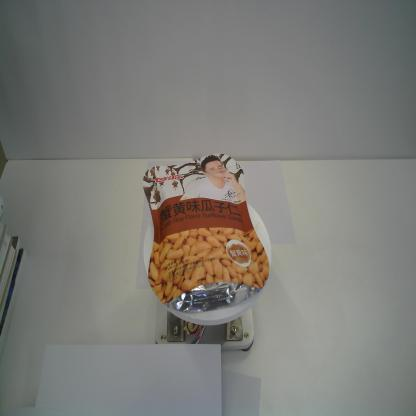Dried Fruit: (141, 152, 270, 314)
